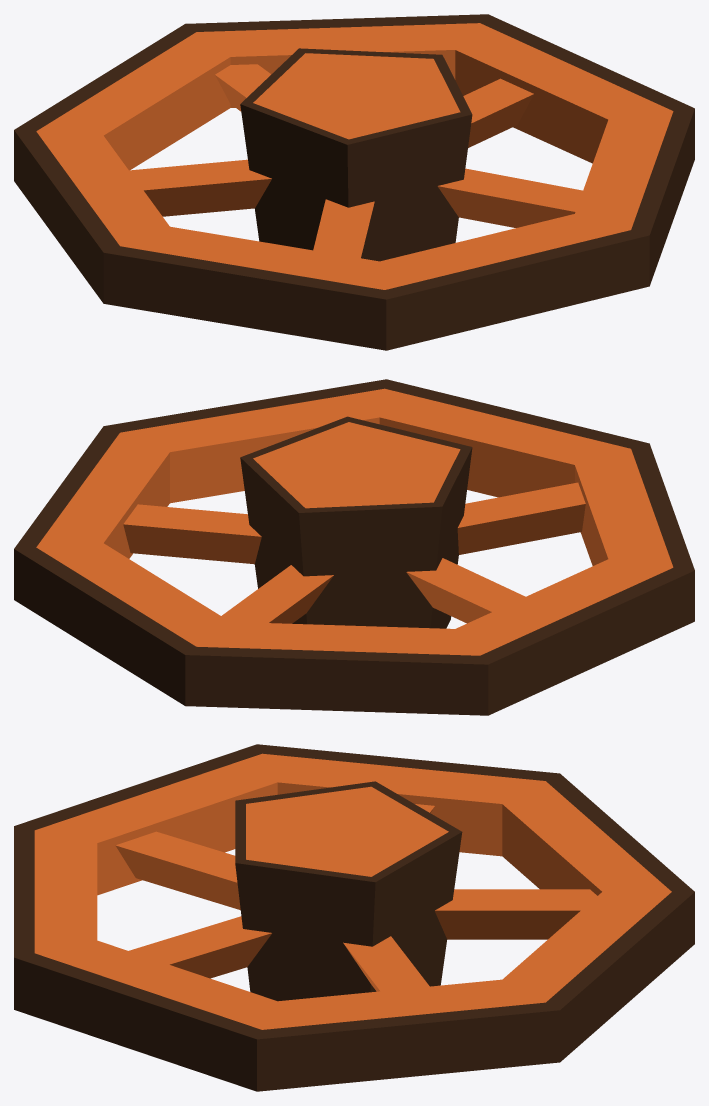
File: Wheel.fbx
The picture shows the model from 3 angles, top to bottom: view 1: azimuth 30°, elevation 25°; view 2: azimuth 150°, elevation 25°; view 3: azimuth 270°, elevation 25°; orthographic projection. The views are drawn at different scales.
Visible parts, largest first — view 1: Cylinder; view 2: Cylinder; view 3: Cylinder.
Part boxes in pixels (bbox=[...]): Cylinder: bbox=[14, 14, 694, 350]; Cylinder: bbox=[14, 379, 694, 715]; Cylinder: bbox=[14, 744, 694, 1091].
Bounding box in the file's own units: 964 × 262 × 940.
